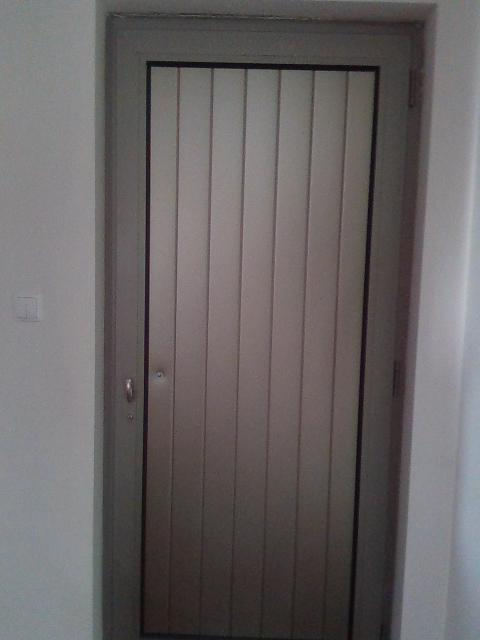door: (88, 4, 438, 637)
